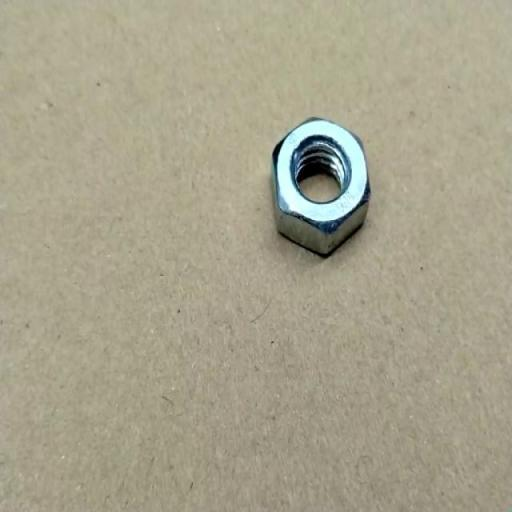Nut: (271, 117, 372, 258)
